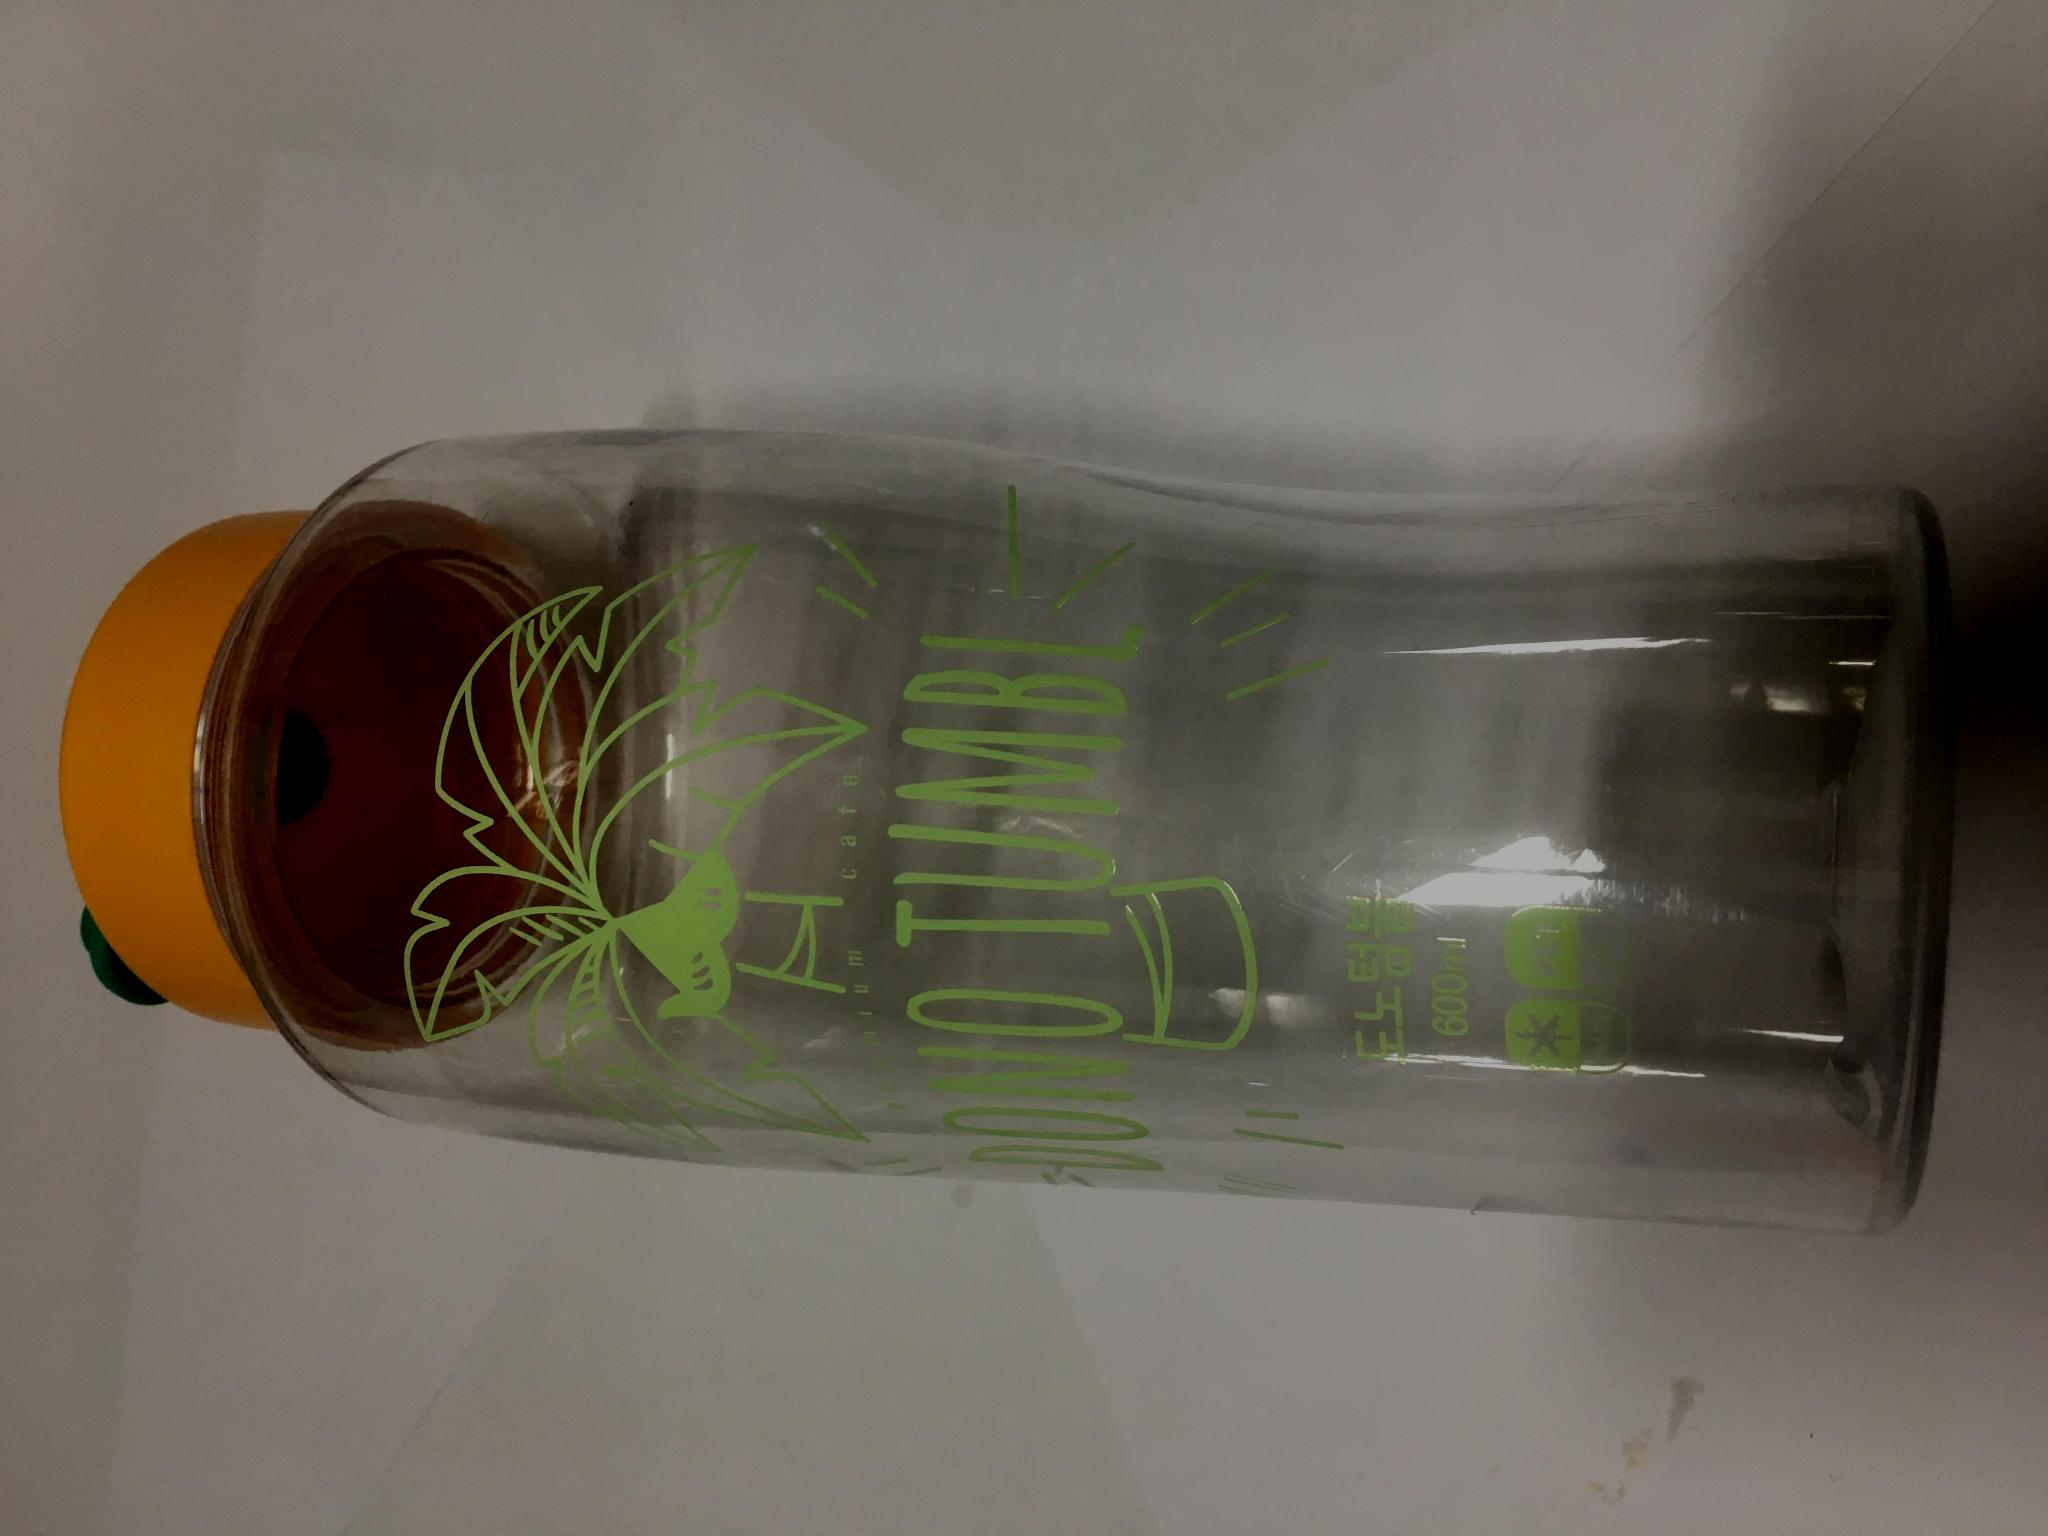bottle: (50, 411, 1974, 1229)
